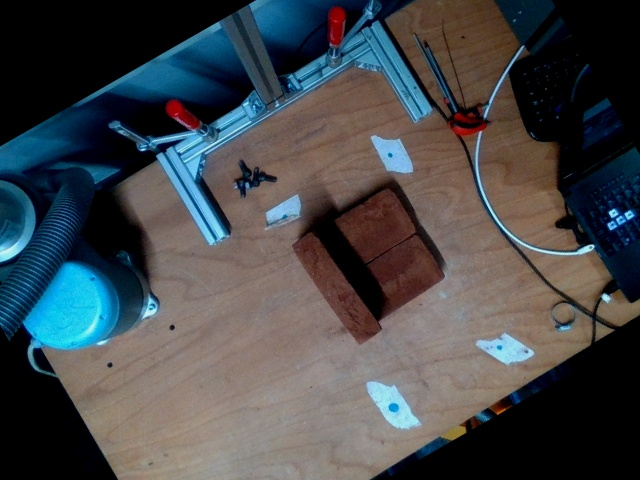brick-side: (290, 230, 380, 341)
